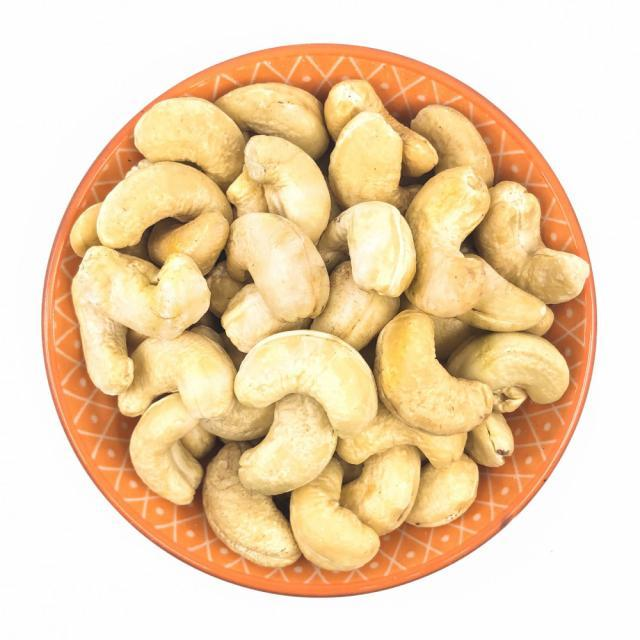Frutta secca: (80, 77, 582, 587)
